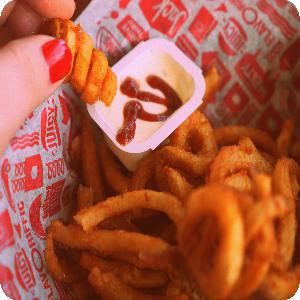fries: (69, 147, 299, 299)
